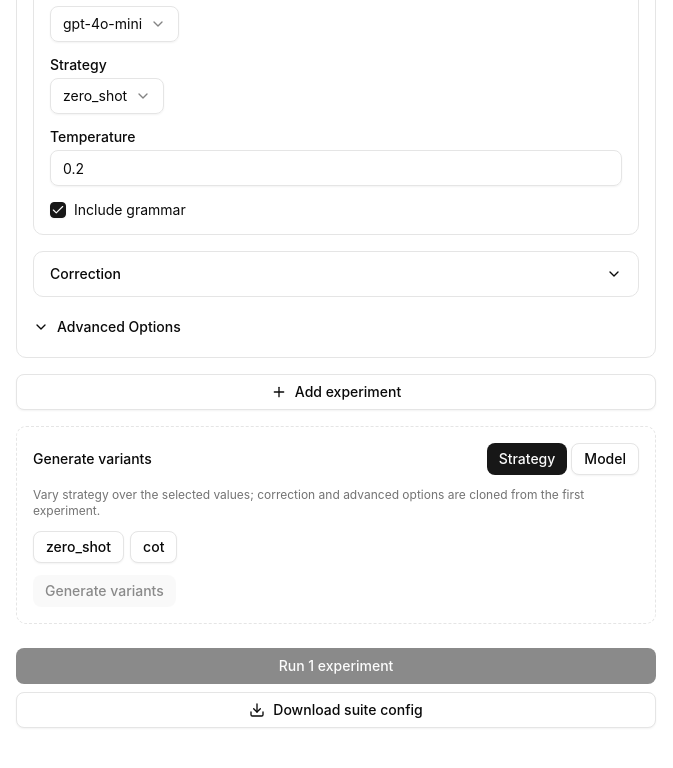
Test: ExperimentsPage › generates one experiment per selected axis value via the expander
This screenshot has width=673, height=768.
(page scrolled)
Click the button "zero_shot" at (79, 547), box [33, 531, 124, 563]
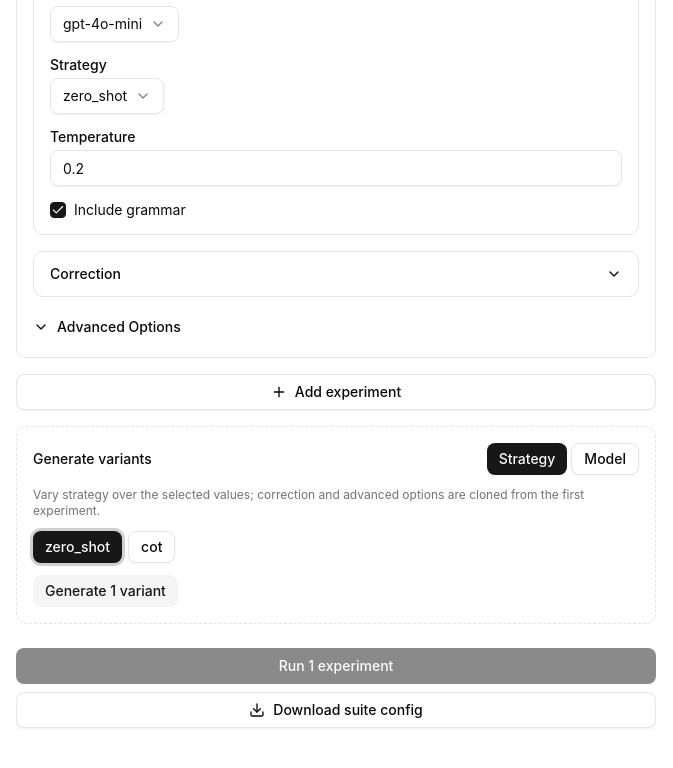
Click the button "cot" at (152, 547), box [128, 531, 175, 563]
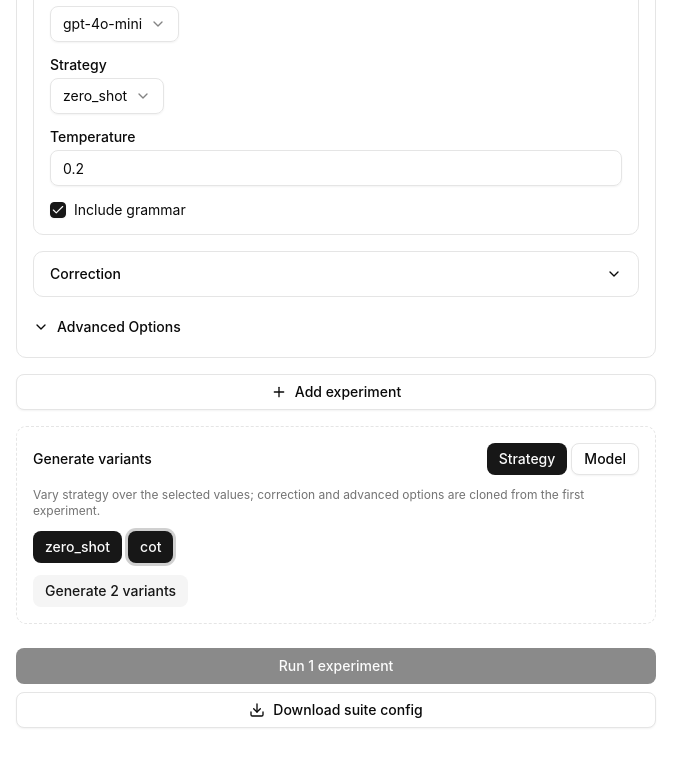
Click the button "Generate 2 variants" at (111, 591), box [33, 575, 188, 607]
(page scrolled)
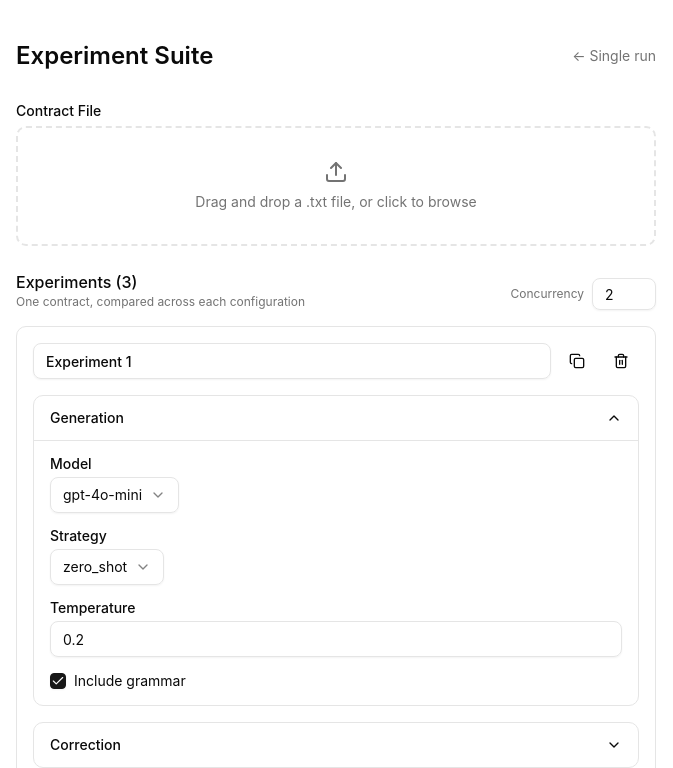
Result: the text "Experiments (3)" is shown at [16, 272, 138, 292]
